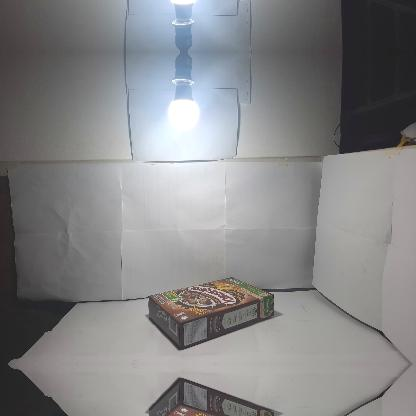Koko-Krunch: (148, 277, 274, 349), (148, 379, 275, 415)
